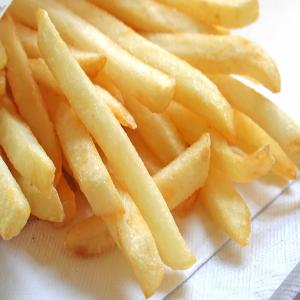fries: (8, 2, 299, 282)
